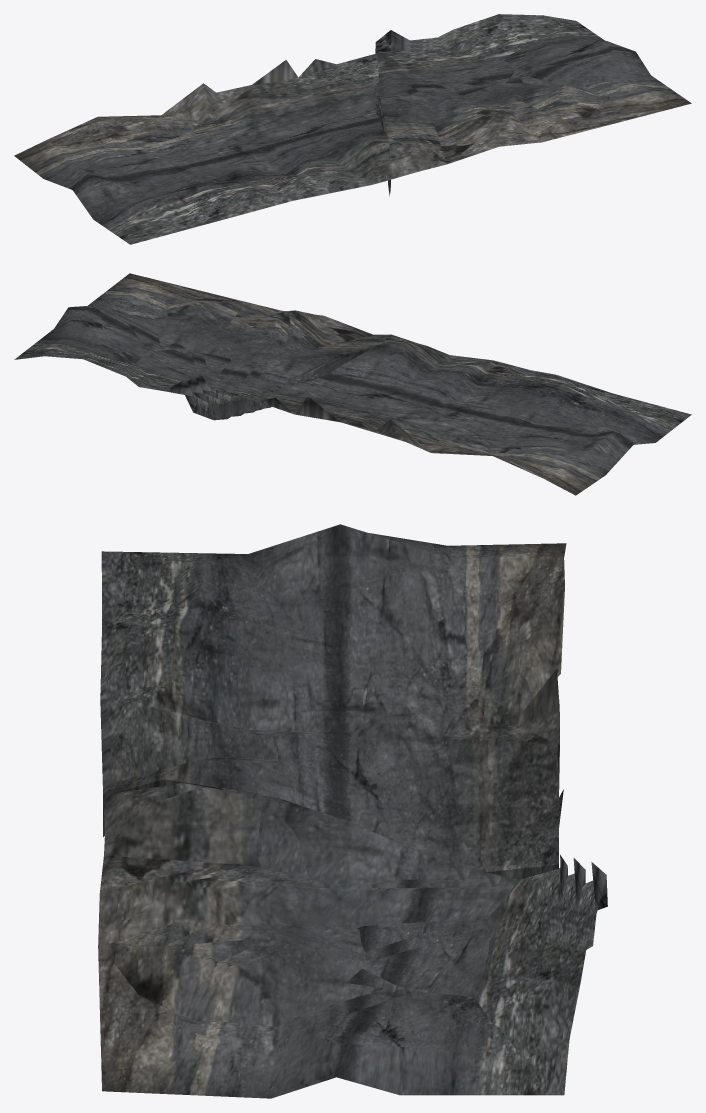
The model's file is StopeFault.fbx.
3 views of the same model, one above another, from view 1: azimuth 30°, elevation 25°; view 2: azimuth 150°, elevation 25°; view 3: azimuth 270°, elevation 25° (orthographic). The views are drawn at different scales.
Visible parts, largest first — view 1: Stope_Face_Edge_geo, Stope_Face_10_geo, Stope_Face_20_geo, Stope_Face_15_geo; view 2: Stope_Face_Edge_geo, Stope_Face_20_geo, Stope_Face_10_geo, Stope_Face_15_geo; view 3: Stope_Face_Edge_geo, Stope_Face_20_geo, Stope_Face_10_geo, Stope_Face_15_geo.
Boxes of the visible parts, x1,y1,x2,y2 form: Stope_Face_Edge_geo: (14, 53, 389, 244); Stope_Face_10_geo: (375, 17, 691, 187); Stope_Face_20_geo: (375, 14, 690, 193); Stope_Face_15_geo: (374, 17, 681, 184); Stope_Face_Edge_geo: (216, 338, 691, 495); Stope_Face_20_geo: (14, 273, 387, 420); Stope_Face_10_geo: (49, 273, 414, 413); Stope_Face_15_geo: (46, 274, 362, 416); Stope_Face_Edge_geo: (100, 524, 566, 879); Stope_Face_20_geo: (98, 787, 607, 1098); Stope_Face_10_geo: (102, 783, 567, 1095); Stope_Face_15_geo: (110, 794, 585, 1096).
Bounding box in the file's own units: 272 × 24 × 106.
